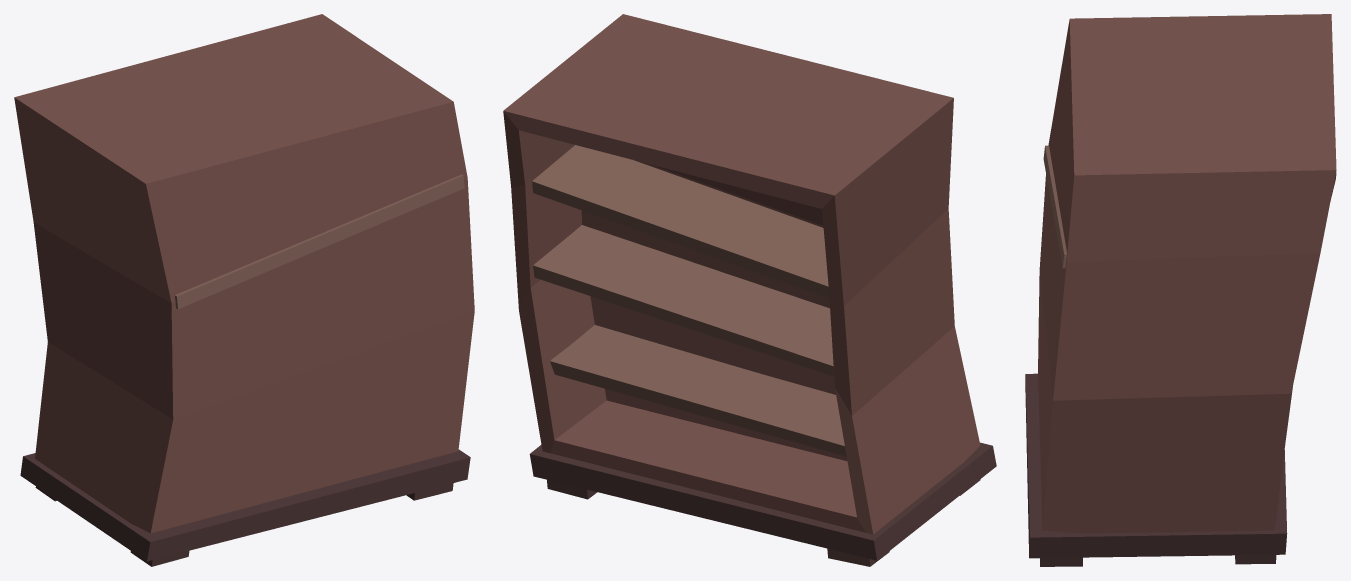
The model's file is LightRoseWoodMechMediumBookshelf2.fbx.
The picture shows the model from 3 angles, left to right: view 1: azimuth 30°, elevation 25°; view 2: azimuth 150°, elevation 25°; view 3: azimuth 270°, elevation 25°; orthographic projection. The views are drawn at different scales.
Visible parts, largest first — view 1: LightRoseWoodMechMediumBookshelf2; view 2: LightRoseWoodMechMediumBookshelf2; view 3: LightRoseWoodMechMediumBookshelf2.
Boxes of the visible parts, x1=… form: LightRoseWoodMechMediumBookshelf2: x1=14, y1=14, x2=474, y2=566; LightRoseWoodMechMediumBookshelf2: x1=503, y1=14, x2=996, y2=566; LightRoseWoodMechMediumBookshelf2: x1=1025, y1=14, x2=1336, y2=566.
Size of the model in its own units: 342 by 352 by 247.
